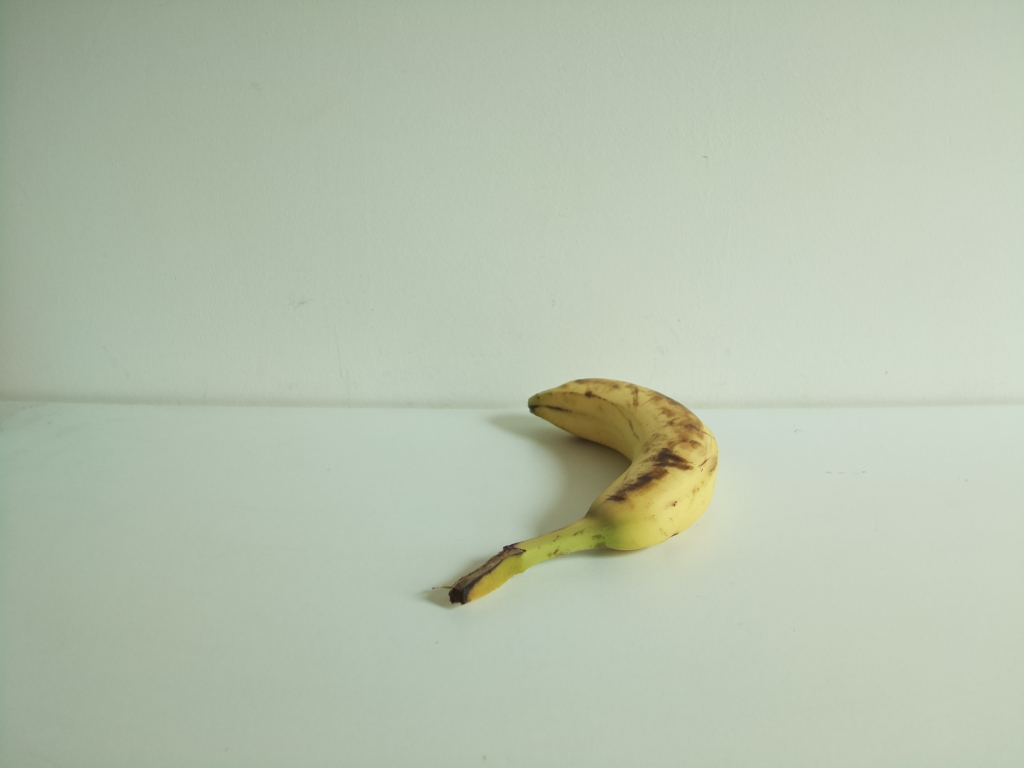banana: (438, 380, 722, 610)
